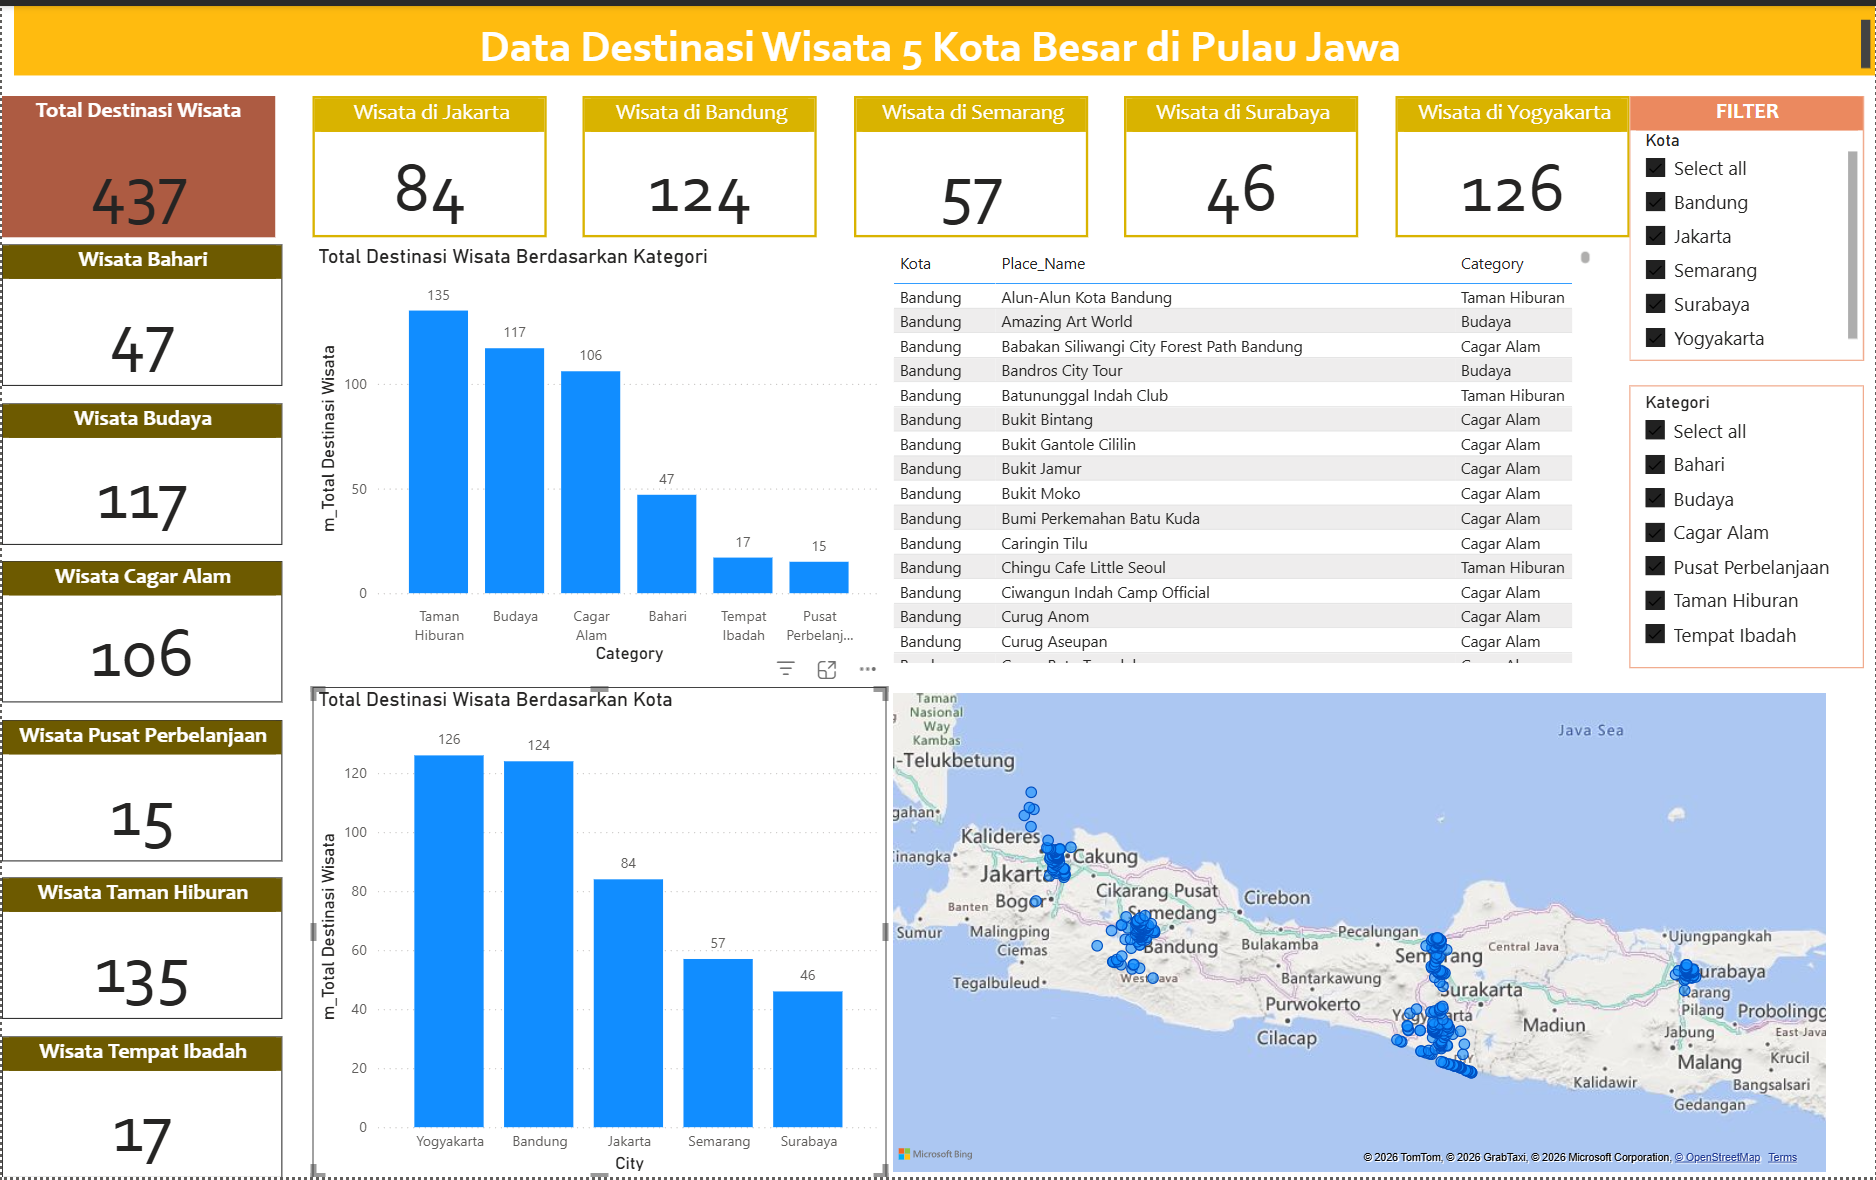

The page's visual inventory and layout, read from the dashboard file:
{"tool":"powerbi","page":{"name":"Depan","canvas":[1600,1000],"ordinal":0},"visuals":[{"type":"shape","box":[10.1,0,1590.4,59.4],"z":0},{"type":"textbox","box":[10.1,5.8,1590.4,53.6],"z":1000},{"type":"slicer","fields":{"Values":["Kategori.Kategori"]},"box":[1390,324.3,200,241.4],"z":2000},{"type":"card","title":"Wisata di Jakarta","fields":{"Values":["tourism_with_id.Jumlah Wisata di Jakart"]},"box":[264.7,76.9,199.8,120.4],"z":3000},{"type":"card","title":"Wisata di Bandung","fields":{"Values":["tourism_with_id.Jumlah Wisata di Bandung"]},"box":[496,76.9,199.8,120.4],"z":4000},{"type":"card","title":"Wisata di Semarang","fields":{"Values":["tourism_with_id.Jumlah Wisata di Semarang"]},"box":[727.4,76.9,199.8,120.4],"z":5000},{"type":"card","title":"Wisata di Surabaya","fields":{"Values":["tourism_with_id.Jumlah Wisata di Surabaya"]},"box":[958.7,76.9,199.8,120.4],"z":6000},{"type":"card","title":"Wisata di Yogyakarta","fields":{"Values":["tourism_with_id.Jumlah Wisata di Yogyakarta"]},"box":[1190,76.9,199.8,120.4],"z":7000},{"type":"card","title":"Wisata Bahari","fields":{"Values":["tourism_with_id.Wisata Bahari"]},"box":[0,204,239.5,120.4],"z":8000},{"type":"card","title":"Wisata Budaya","fields":{"Values":["tourism_with_id.Wisata Budaya"]},"box":[0,339.2,239.5,120.4],"z":9000},{"type":"card","title":"Wisata Cagar Alam","fields":{"Values":["tourism_with_id.Wisata Cagar Alam"]},"box":[0,474.4,239.5,120.4],"z":10000},{"type":"card","title":"Wisata Pusat Perbelanjaan","fields":{"Values":["tourism_with_id.Wisata Pusat Perbelanjaan"]},"box":[0,609.6,239.5,120.4],"z":11000},{"type":"card","title":"Wisata Taman Hiburan","fields":{"Values":["tourism_with_id.Wisata Taman Hiburan"]},"box":[0,744.8,239.5,120.4],"z":12000},{"type":"card","title":"Wisata Tempat Ibadah","fields":{"Values":["tourism_with_id.Wisata Tempat Ibadah"]},"box":[0,879.6,239.5,120.4],"z":13000},{"type":"card","title":"Total Destinasi Wisata","fields":{"Values":["tourism_with_id.m_Total Destinasi Wisata"]},"box":[0,76.9,233.2,120.4],"z":14000},{"type":"slicer","title":"FILTER","fields":{"Values":["Kota.Kota"]},"box":[1390,77.1,200,225.7],"z":15000},{"type":"tableEx","fields":{"Values":["Kota.Kota","tourism_with_id.Place_Name","tourism_with_id.Category"]},"box":[755.7,204.3,605.7,361.4],"z":16000},{"type":"map","fields":{"Y":["tourism_with_id.Lat"],"X":["tourism_with_id.Long"]},"box":[755.7,581.4,807.1,418.6],"z":17000},{"type":"clusteredColumnChart","fields":{"Y":["tourism_with_id.m_Total Destinasi Wisata"],"Category":["tourism_with_id.Category"]},"box":[265.7,204.3,490,361.4],"z":18000},{"type":"clusteredColumnChart","fields":{"Y":["tourism_with_id.m_Total Destinasi Wisata"],"Category":["tourism_with_id.City"]},"box":[265.7,581.4,490,418.6],"z":19000}]}

Visuals, with their boxes in screenshot pixels (x1, y1, x2, y2), scaled from the page's 1600x1000 canvas onto the 1876x1180 screenshot:
shape: (x1=12, y1=0, x2=1875, y2=70)
textbox: (x1=12, y1=7, x2=1875, y2=70)
slicer - Kategori.Kategori: (x1=1630, y1=383, x2=1864, y2=668)
"Wisata di Jakarta" card: (x1=310, y1=91, x2=545, y2=233)
"Wisata di Bandung" card: (x1=582, y1=91, x2=816, y2=233)
"Wisata di Semarang" card: (x1=853, y1=91, x2=1087, y2=233)
"Wisata di Surabaya" card: (x1=1124, y1=91, x2=1358, y2=233)
"Wisata di Yogyakarta" card: (x1=1395, y1=91, x2=1630, y2=233)
"Wisata Bahari" card: (x1=0, y1=241, x2=281, y2=383)
"Wisata Budaya" card: (x1=0, y1=400, x2=281, y2=542)
"Wisata Cagar Alam" card: (x1=0, y1=560, x2=281, y2=702)
"Wisata Pusat Perbelanjaan" card: (x1=0, y1=719, x2=281, y2=861)
"Wisata Taman Hiburan" card: (x1=0, y1=879, x2=281, y2=1021)
"Wisata Tempat Ibadah" card: (x1=0, y1=1038, x2=281, y2=1179)
"Total Destinasi Wisata" card: (x1=0, y1=91, x2=273, y2=233)
"FILTER" slicer: (x1=1630, y1=91, x2=1864, y2=357)
tableEx - Kota.Kota x tourism_with_id.Place_Name: (x1=886, y1=241, x2=1596, y2=668)
map - tourism_with_id.Lat x tourism_with_id.Long: (x1=886, y1=686, x2=1832, y2=1179)
clusteredColumnChart - tourism_with_id.m_Total Destinasi Wisata x tourism_with_id.Category: (x1=312, y1=241, x2=886, y2=668)
clusteredColumnChart - tourism_with_id.m_Total Destinasi Wisata x tourism_with_id.City: (x1=312, y1=686, x2=886, y2=1179)
